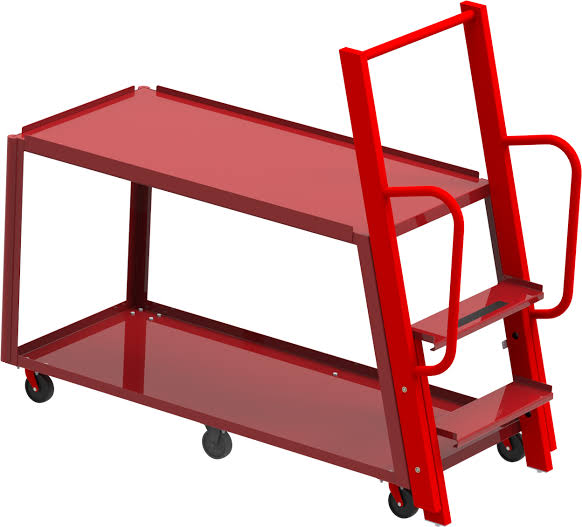Carts: (7, 1, 581, 527)
